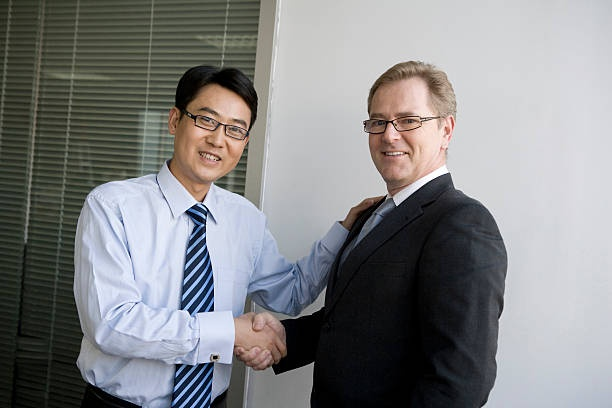person: (291, 59, 509, 408), (71, 64, 268, 408)
